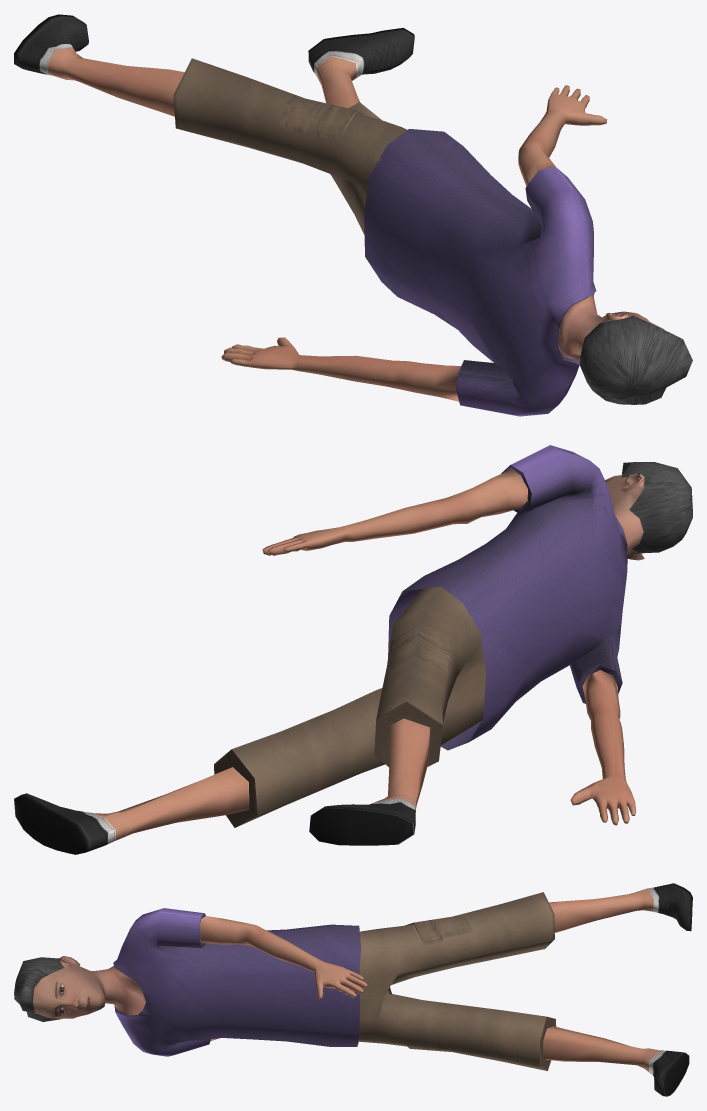
The model's file is walk.obj.
The picture shows the model from 3 angles, top to bottom: view 1: azimuth 30°, elevation 25°; view 2: azimuth 150°, elevation 25°; view 3: azimuth 270°, elevation 25°; orthographic projection. The views are drawn at different scales.
Bounding box in the file's own units: 0.8664 × 0.4584 × 1.74.
1 material, 1 textured.
